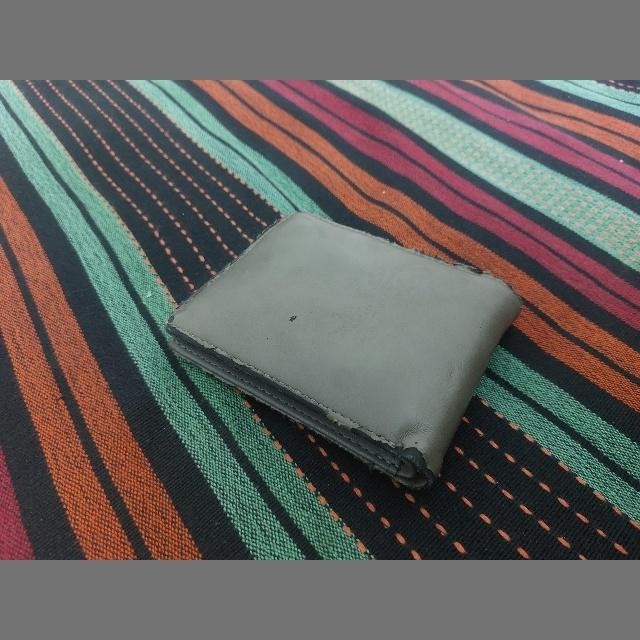Wallet: (167, 212, 521, 490)
